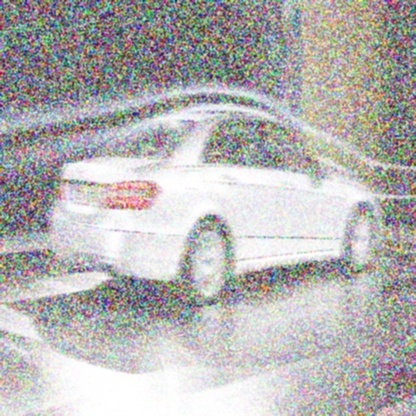Vehicle: (48, 110, 382, 306)
